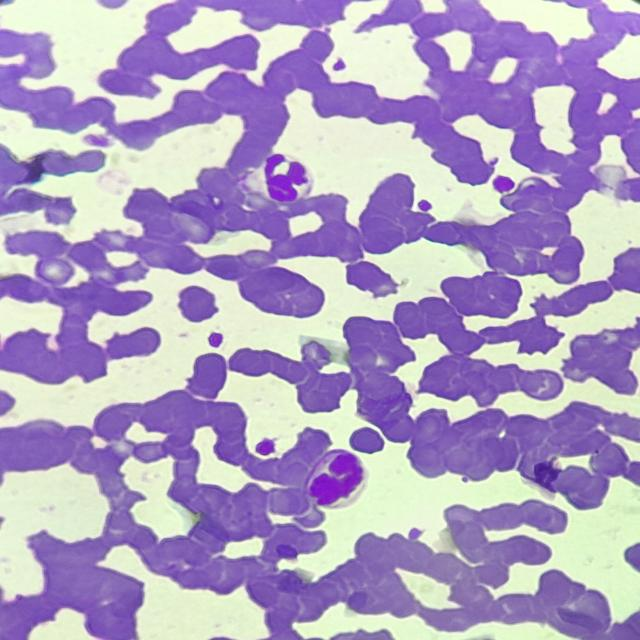Neutrofilo: (303, 450, 372, 508), (258, 148, 321, 207)
